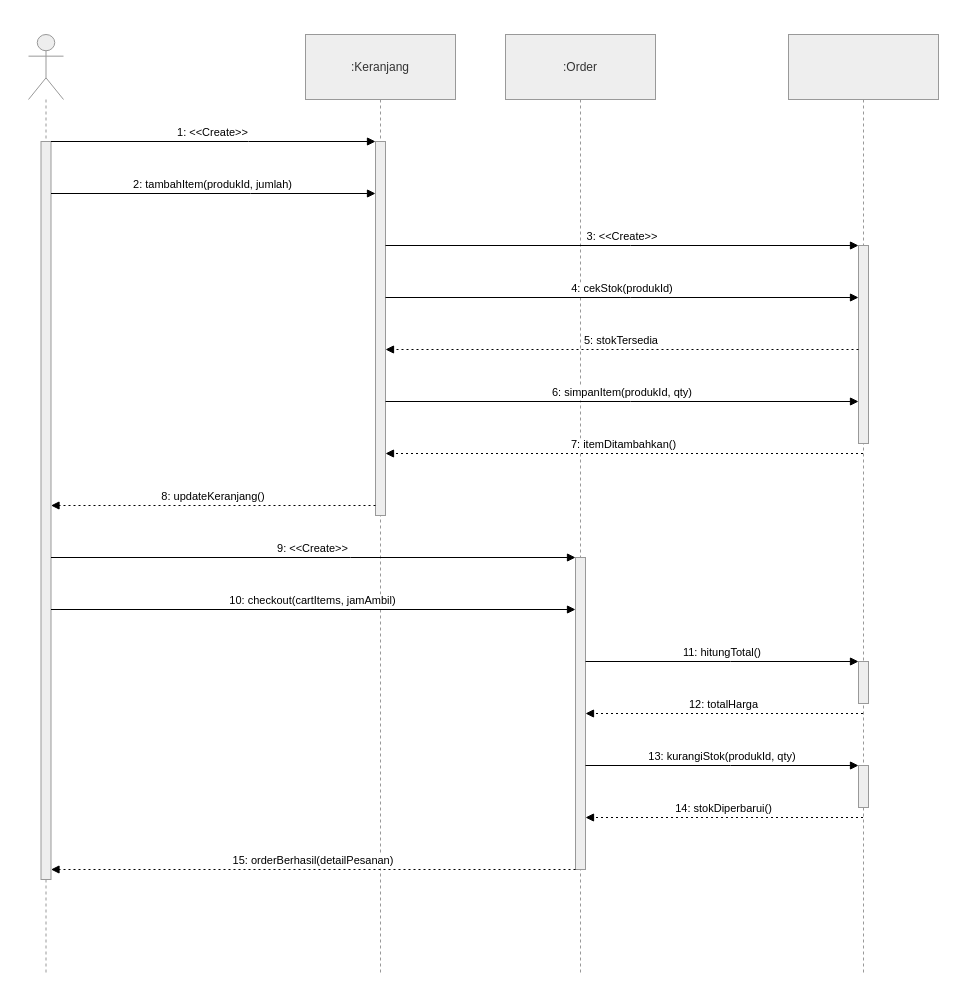
Image size: 956x992. Some labels were removed from this diagram. The shapes that lost their labels are listed below. From the top down, each one's box as (x1, y1, x2, y2) in pixels, then its label:
(28, 34, 64, 974): Pelanggan
(788, 34, 938, 974): :ItemOrder
